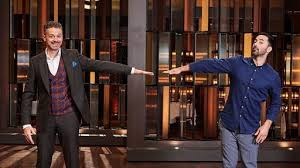Good: (20, 21, 280, 168)
